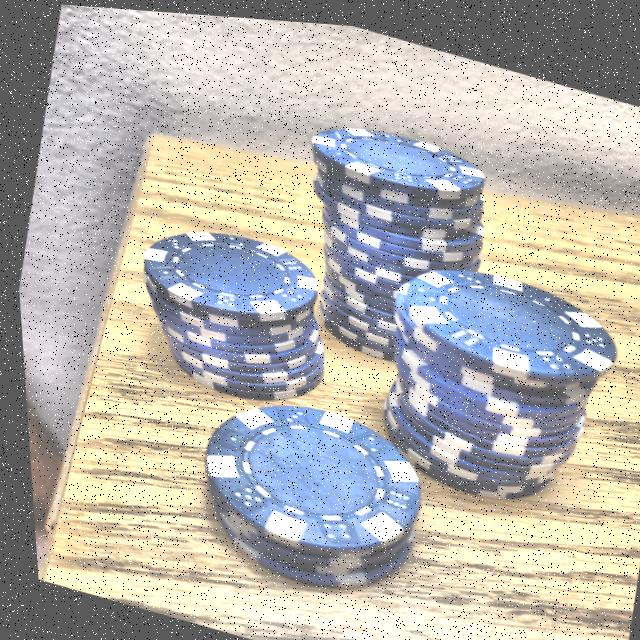Chip: (329, 206, 640, 530), (140, 344, 462, 633), (246, 78, 518, 409), (97, 179, 359, 434)
